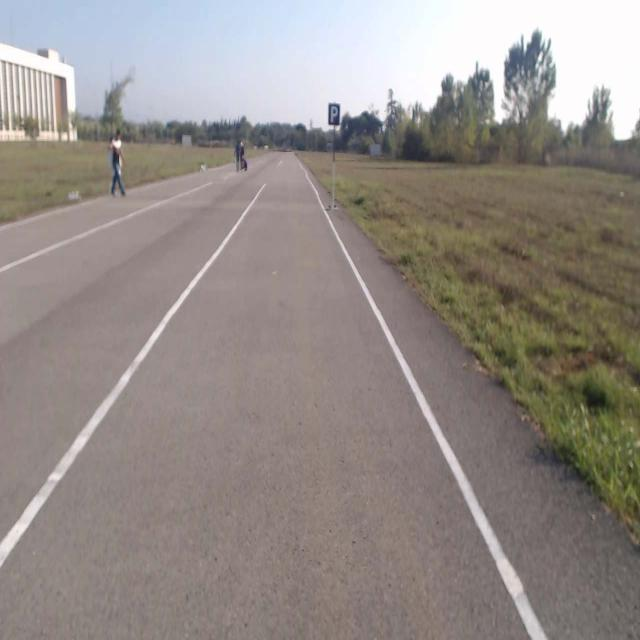park: (328, 102, 340, 126)
